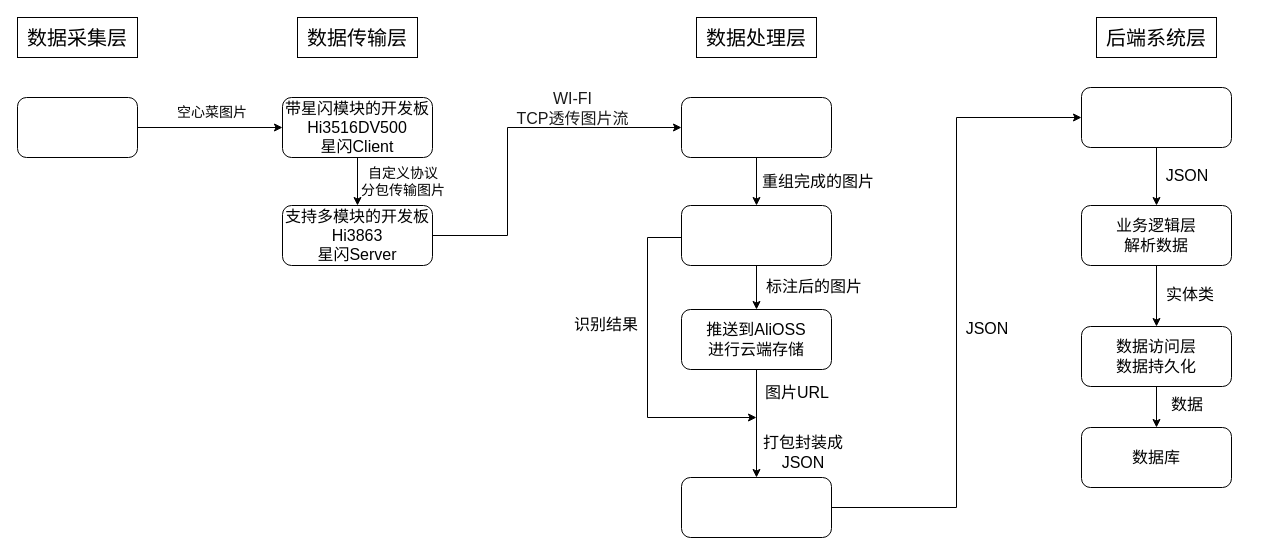
This 1268x555 diagram has some shape labels left out. The centre of each missing label's shape, as x and y in pixels:
"PC计算机 脚本重组流数据" goes at [756,127].
"Python WebSocket Client" goes at [756,507].
"WebSocket Server 接收数据" goes at [1156,117].
"YOLO-v8 识别空心菜长势" goes at [756,235].
"硬件传感器 SC450摄像头" goes at [77,127].
